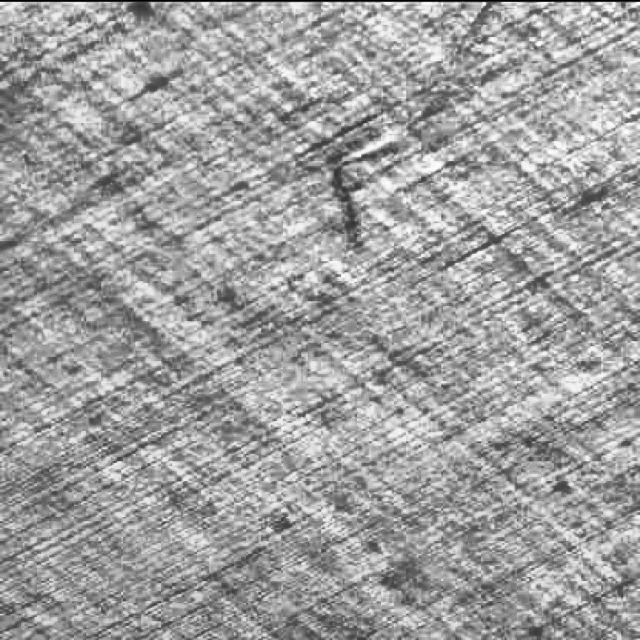objects: (320, 0, 508, 274)
